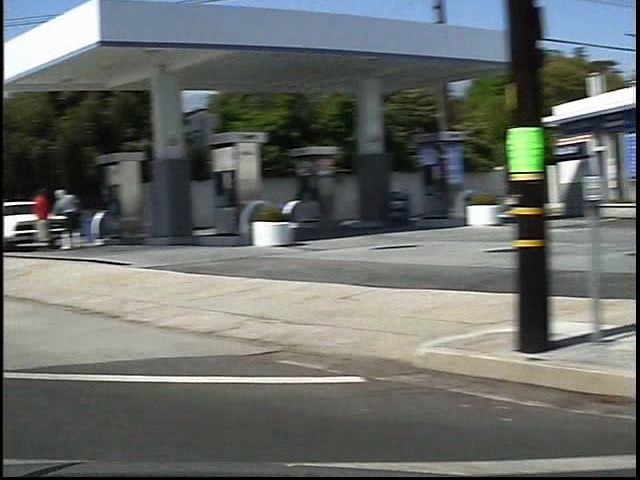person: (9, 181, 32, 250)
